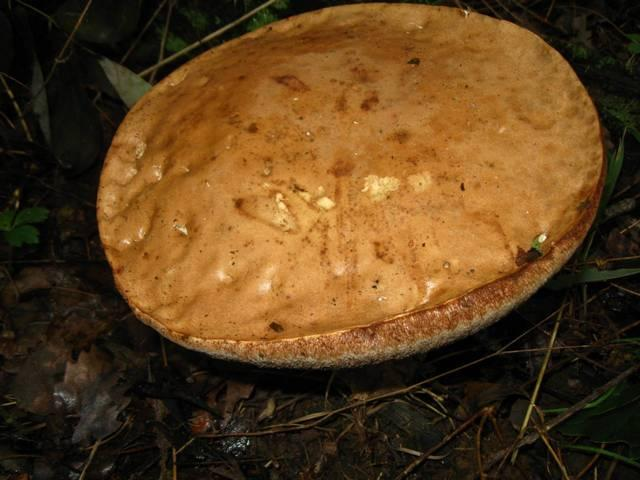Non-edible Mushroom: (94, 1, 606, 372)
